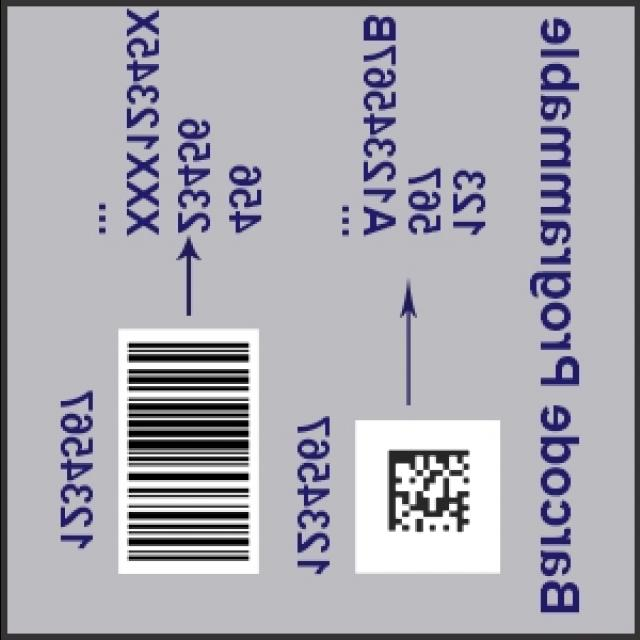DataMatrix: (384, 444, 474, 540)
